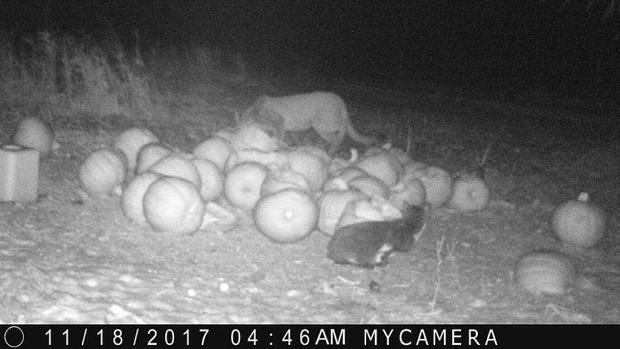house cat: (325, 196, 432, 274)
mountain lion: (229, 94, 374, 147)
